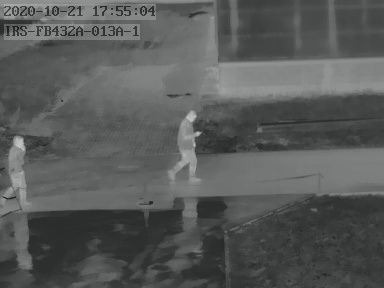person: (174, 105, 200, 179), (4, 132, 28, 204)
